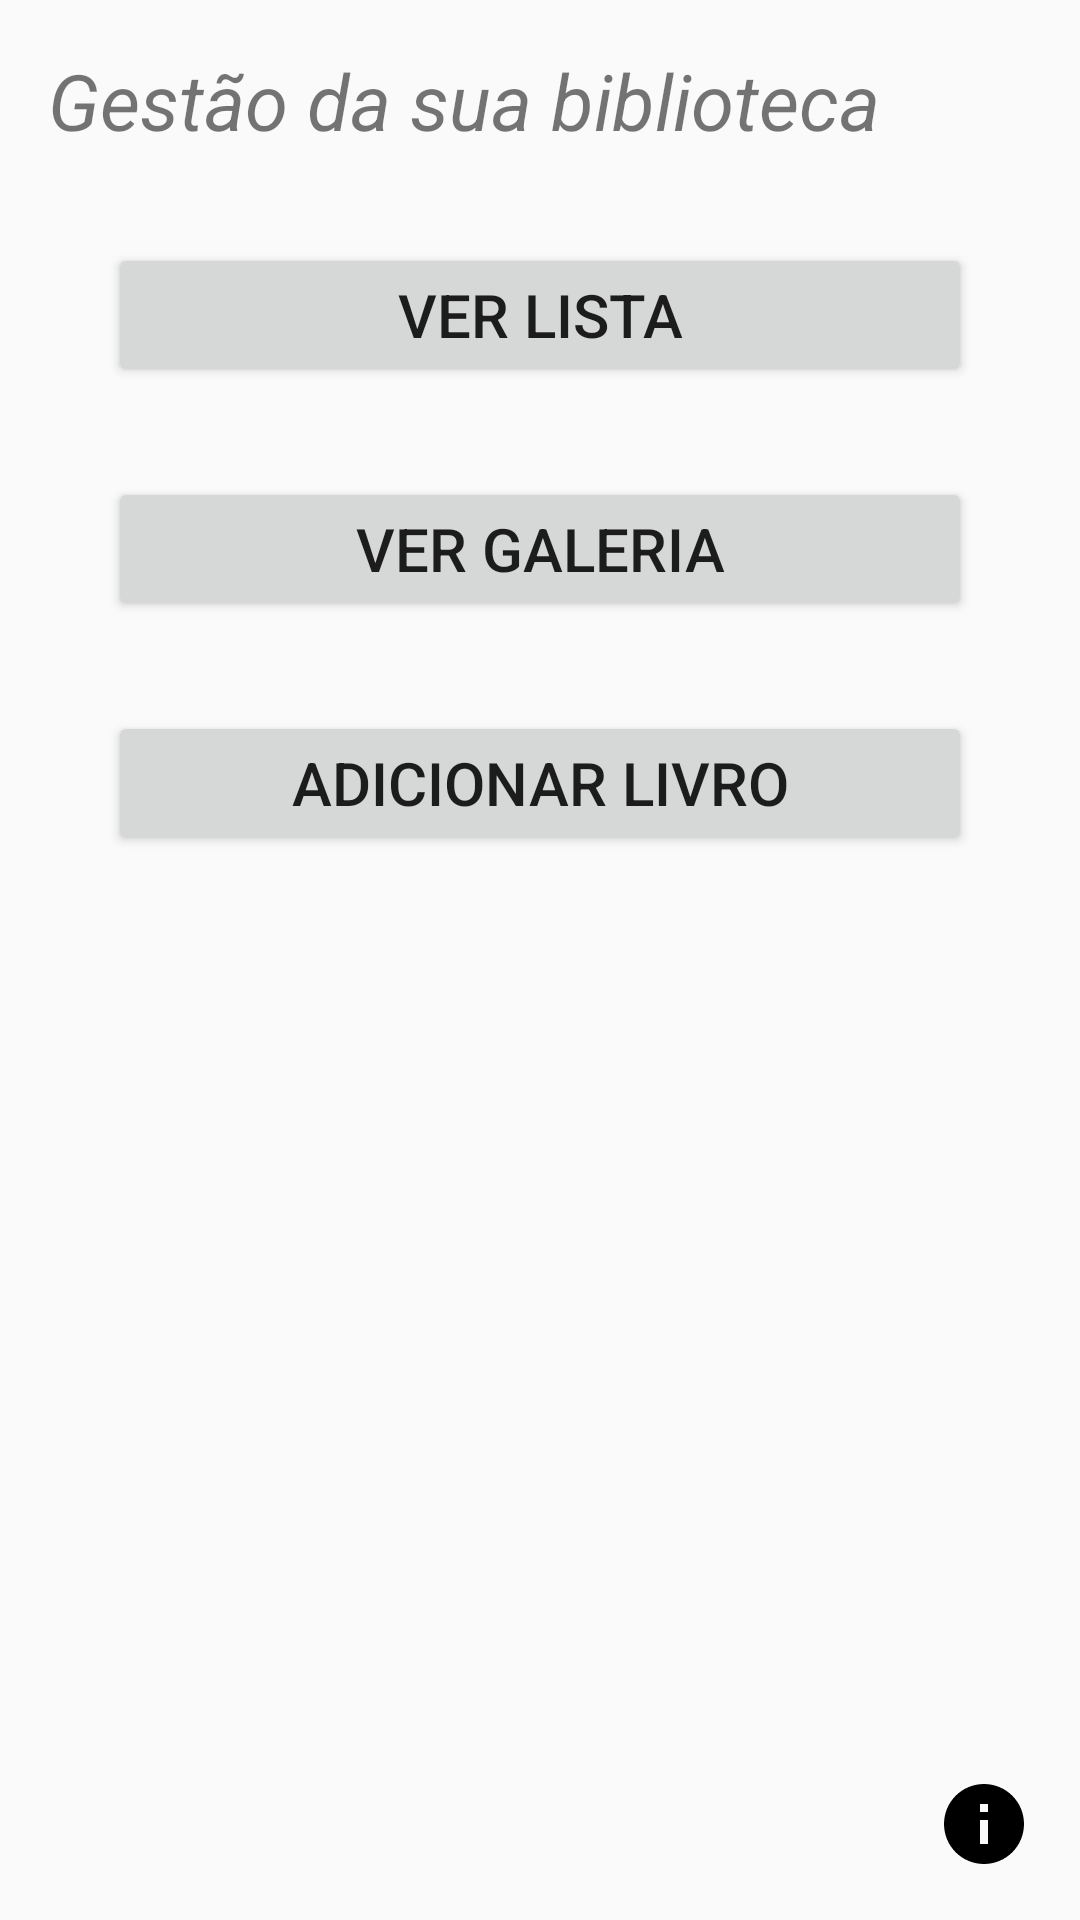

Icons on this 1080*1920 Android screen, each with the point to tap as [x,y]:
info: [984,1824]
